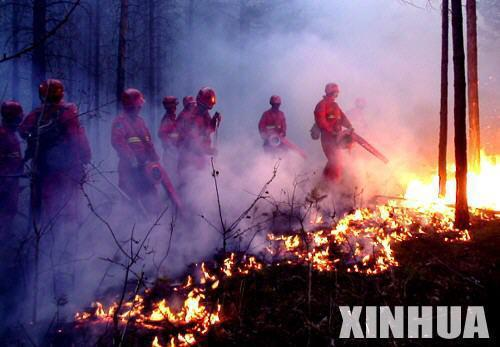fire: (273, 168, 497, 275), (75, 278, 234, 345), (179, 248, 266, 277)
